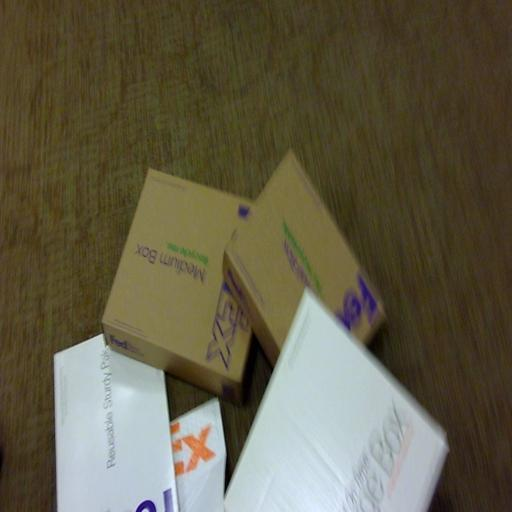Amazon: (215, 320, 421, 512), (114, 163, 254, 379), (223, 168, 381, 353), (36, 347, 179, 512)
